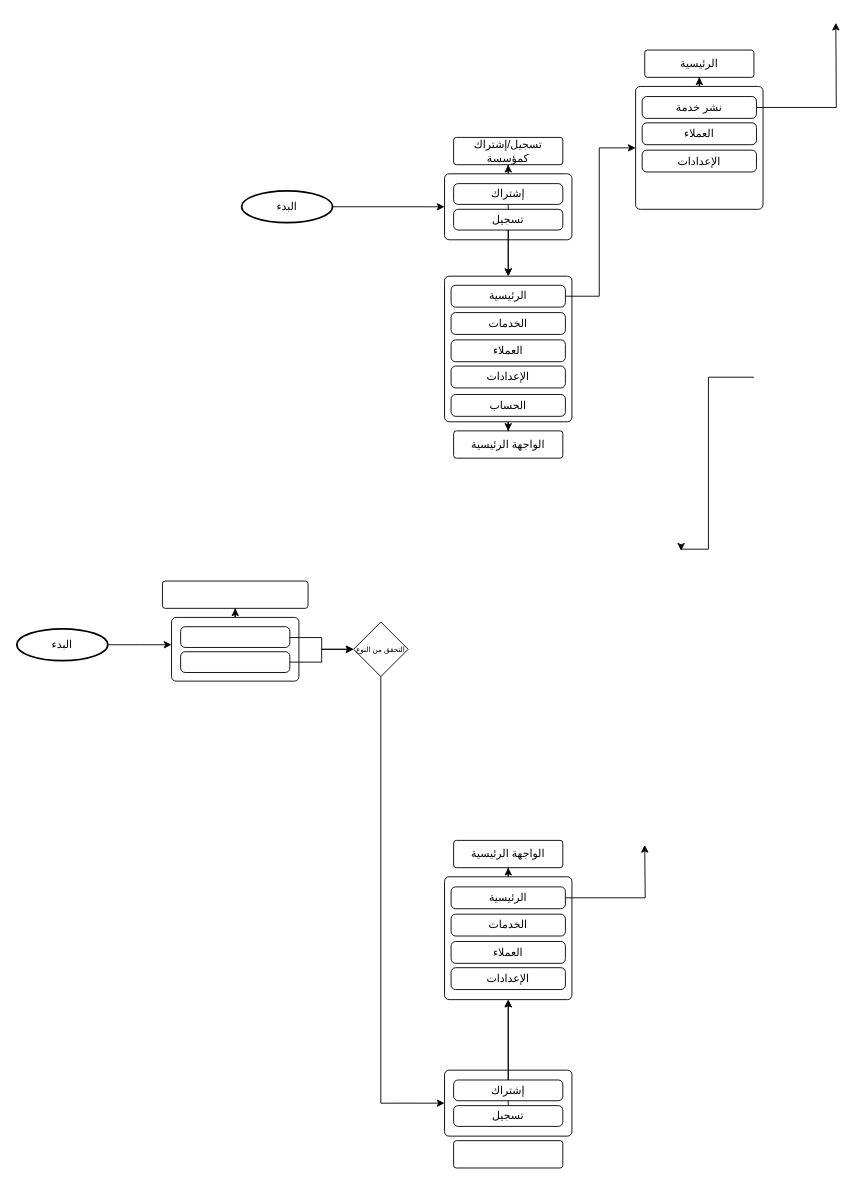
The diagram is 859 pixels wide and 1184 high, and some of its shapes have lost their labels. The shapes that lost their labels are listed below. From the top down, each one's centre as x and y in pixels, then its label:
At (235,594): "إختيار نوع تسجيل الدخول/الإشتراك".
At (235,636): "التسجيل كمؤسسة".
At (235,661): "ال تسجيل كعميل".
At (508,1154): "تسجيل/إشتراك كعميل".
